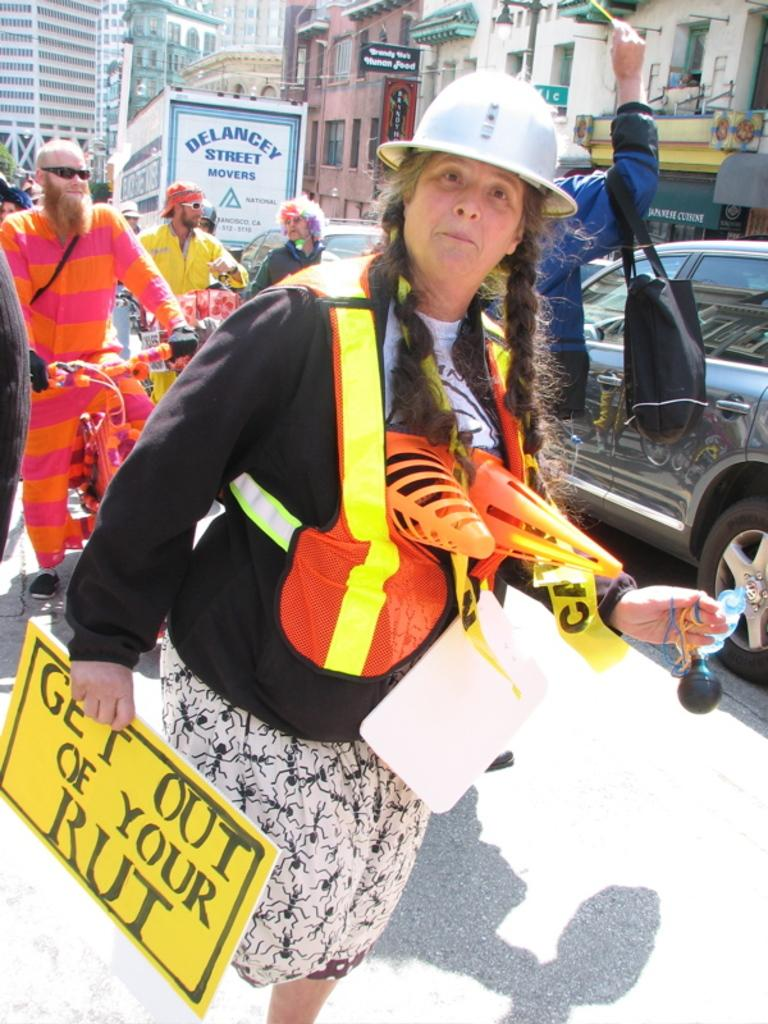Hat: (370, 67, 574, 217), (152, 176, 210, 218), (118, 201, 136, 213)
